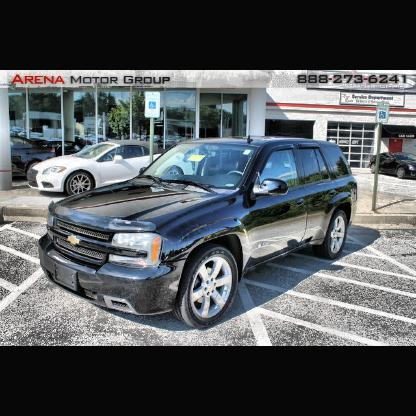Chevrolet TrailBlazer SS 2009: (38, 141, 359, 330)
